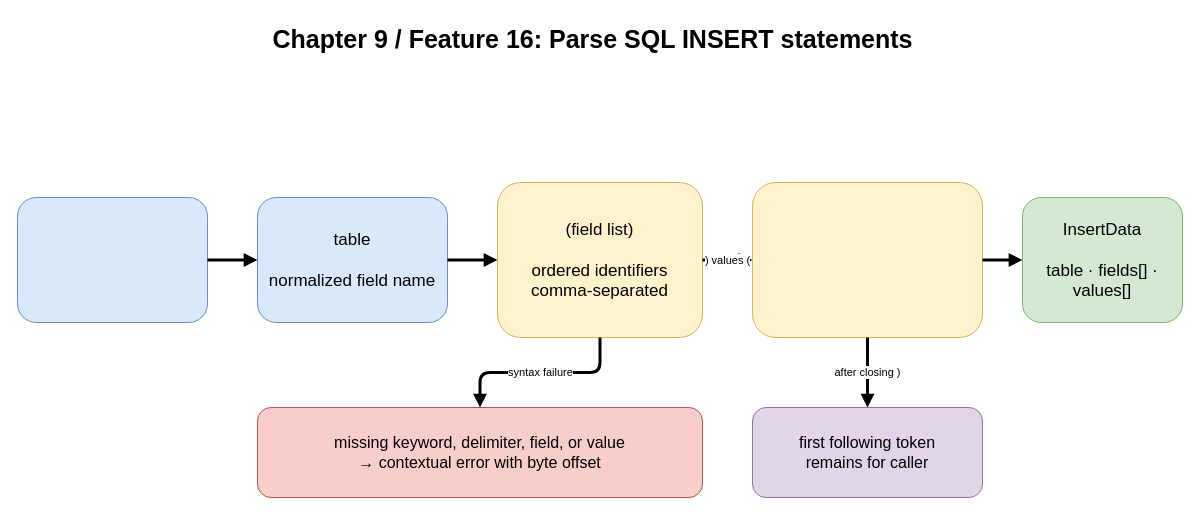
Image size: 1200x515. Some labels were removed from this diagram. Here are the shapes that lost their labels. From the top down, the centre of each, then its label:
point (112, 259): insert into case-insensitive keywords
point (867, 260): values (constant list) ordered strings / integers comma-separated
